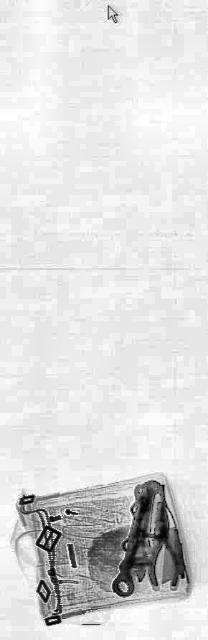Pliers: (146, 497, 178, 593)
Wrench: (110, 454, 158, 616)
